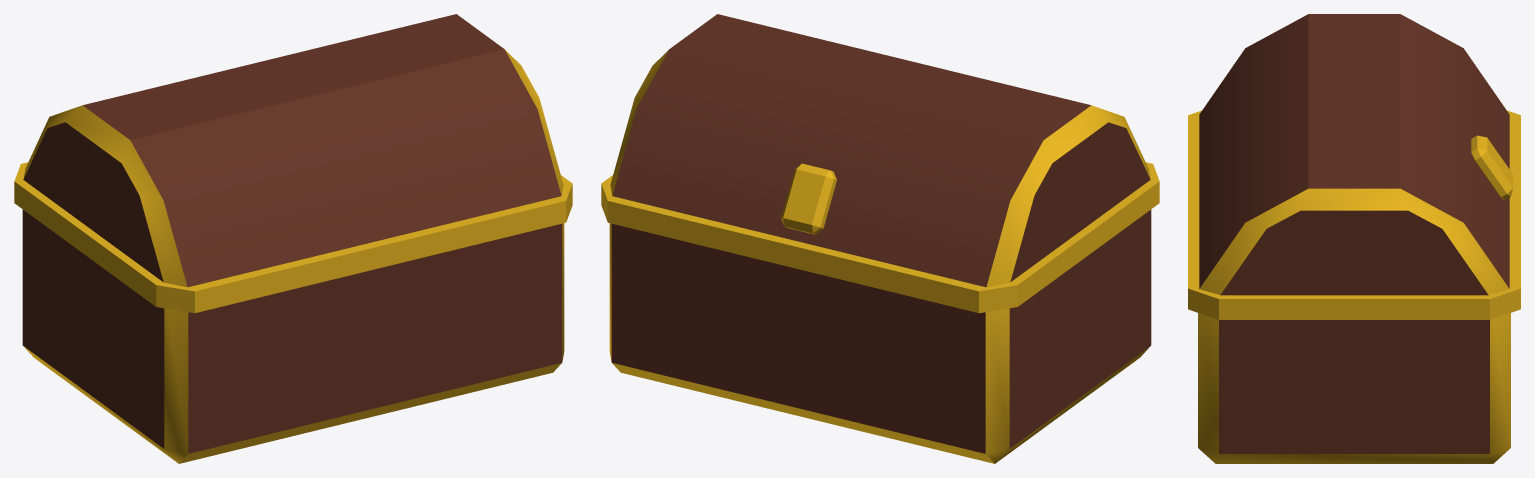
Rendered from Chest_01.fbx.
3 views of the same model, side by side, from view 1: azimuth 30°, elevation 25°; view 2: azimuth 150°, elevation 25°; view 3: azimuth 270°, elevation 25° (orthographic). The views are drawn at different scales.
Parts seen in each view (by area): view 1: Chest_01; view 2: Chest_01; view 3: Chest_01.
Boxes of the visible parts, left/top/right/bottom form: Chest_01: left=14, top=14, right=572, bottom=463; Chest_01: left=601, top=14, right=1159, bottom=463; Chest_01: left=1188, top=14, right=1520, bottom=463.
Size of the model in its own units: 75.69 by 50.02 by 54.81.
